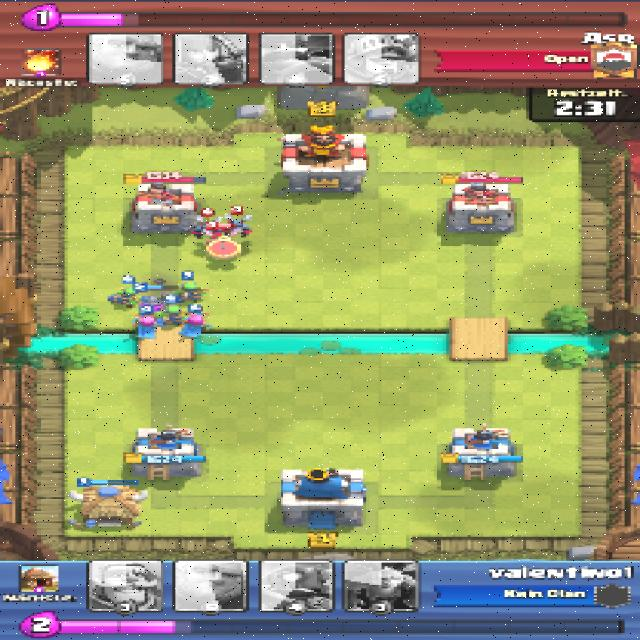Enemy-Minion: (225, 217, 248, 236), (192, 222, 219, 237)
Player-Archer: (131, 316, 162, 340), (183, 316, 210, 337)
Player-GoblinHut: (60, 487, 153, 529)
Player-Musketeer: (136, 289, 169, 311)
Player-SpearGoblin: (172, 284, 206, 303), (109, 286, 138, 306), (163, 306, 181, 325)
